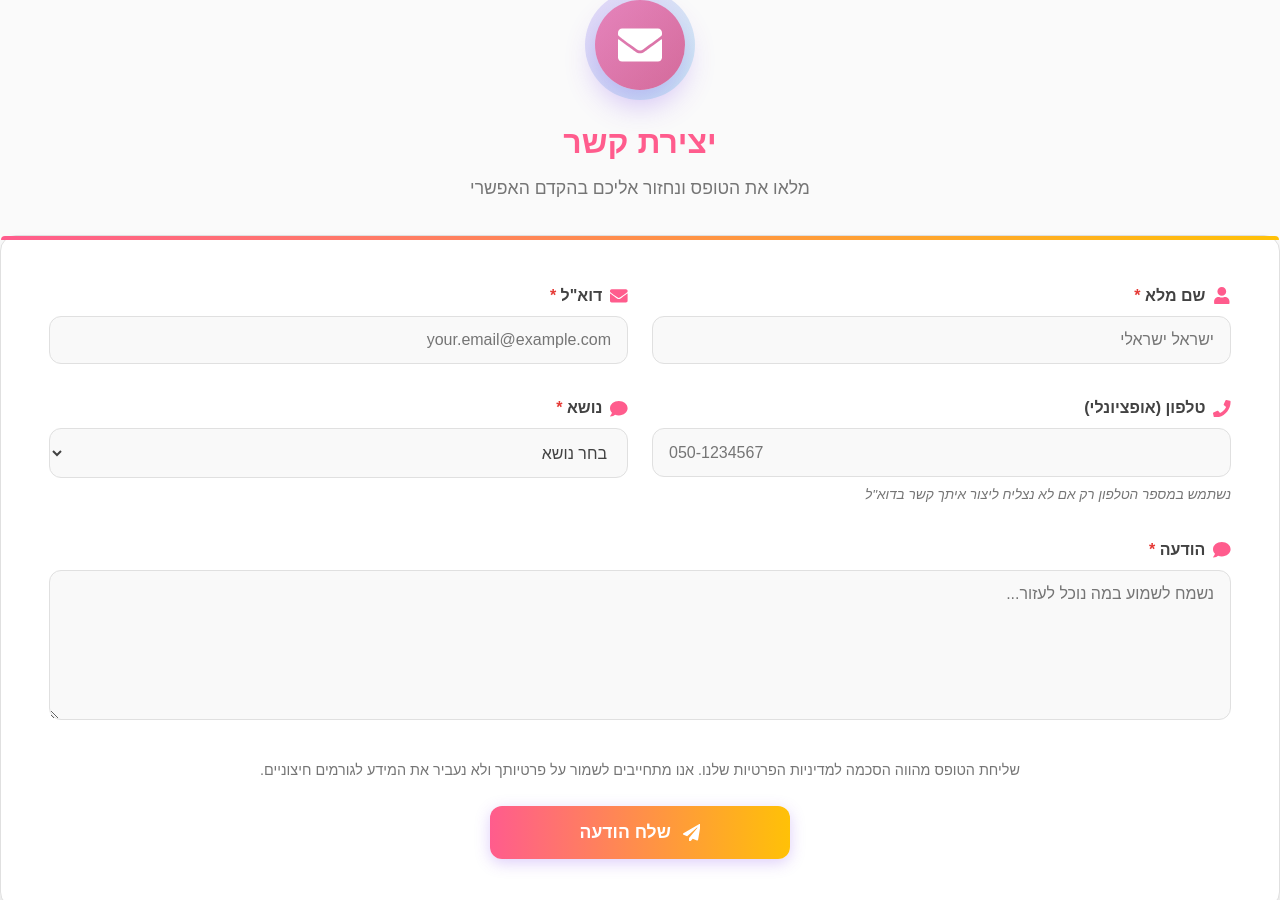
Test case: ContactForm Component › מציג שגיאה כאשר ההודעה קצרה מדי
The width and height of the screenshot is (1280, 900).
Type "דני ישראלי" into the field with placeholder "ישראל ישראלי" at point(942, 340), box [652, 316, 1231, 364]
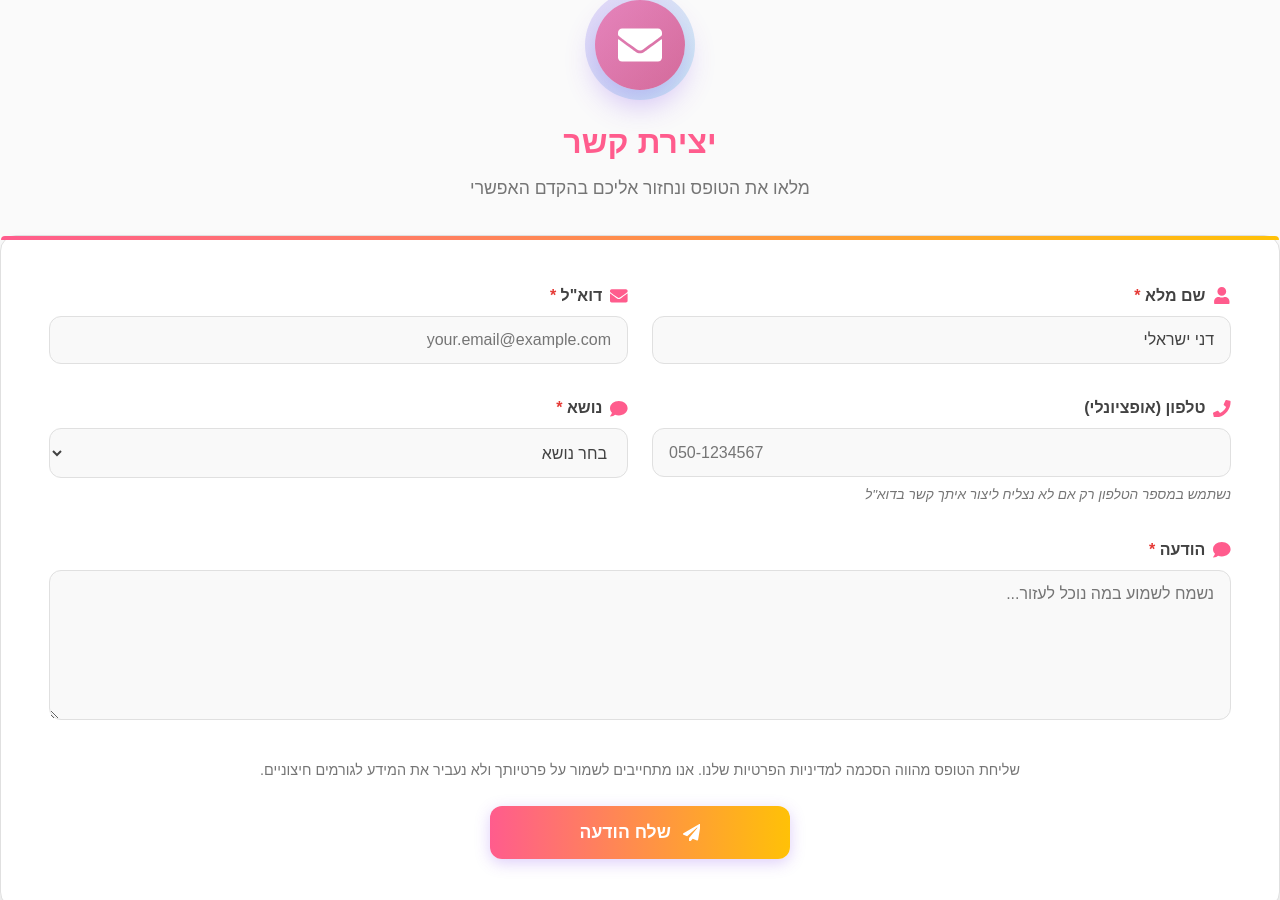
Type "danny@test.com" into the field with placeholder "your.email@example.com" at point(338, 340), box [49, 316, 628, 364]
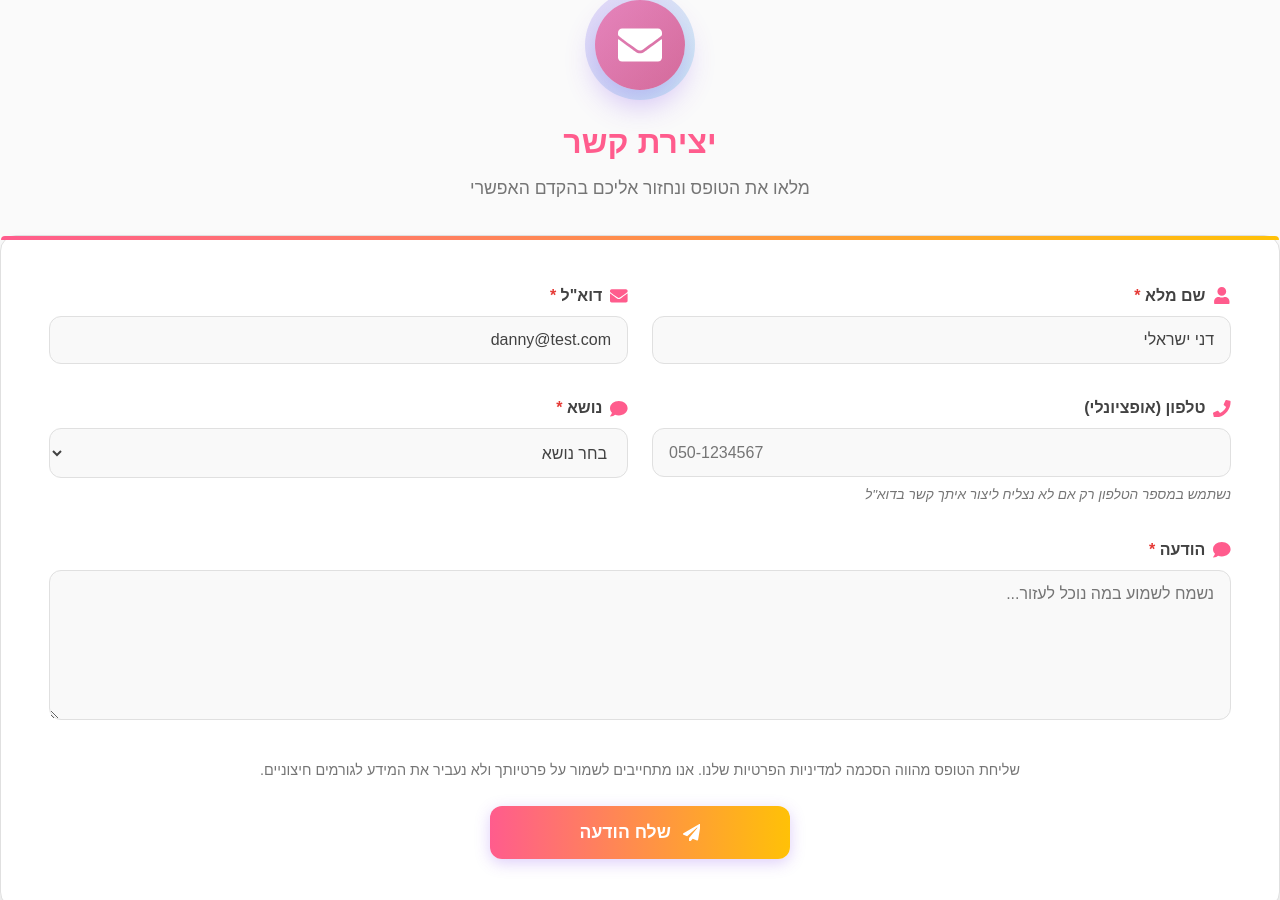
Type "שלום" into the text box with placeholder "נשמח לשמוע במה נוכל לעזור..." at point(640, 644), box [49, 570, 1231, 720]
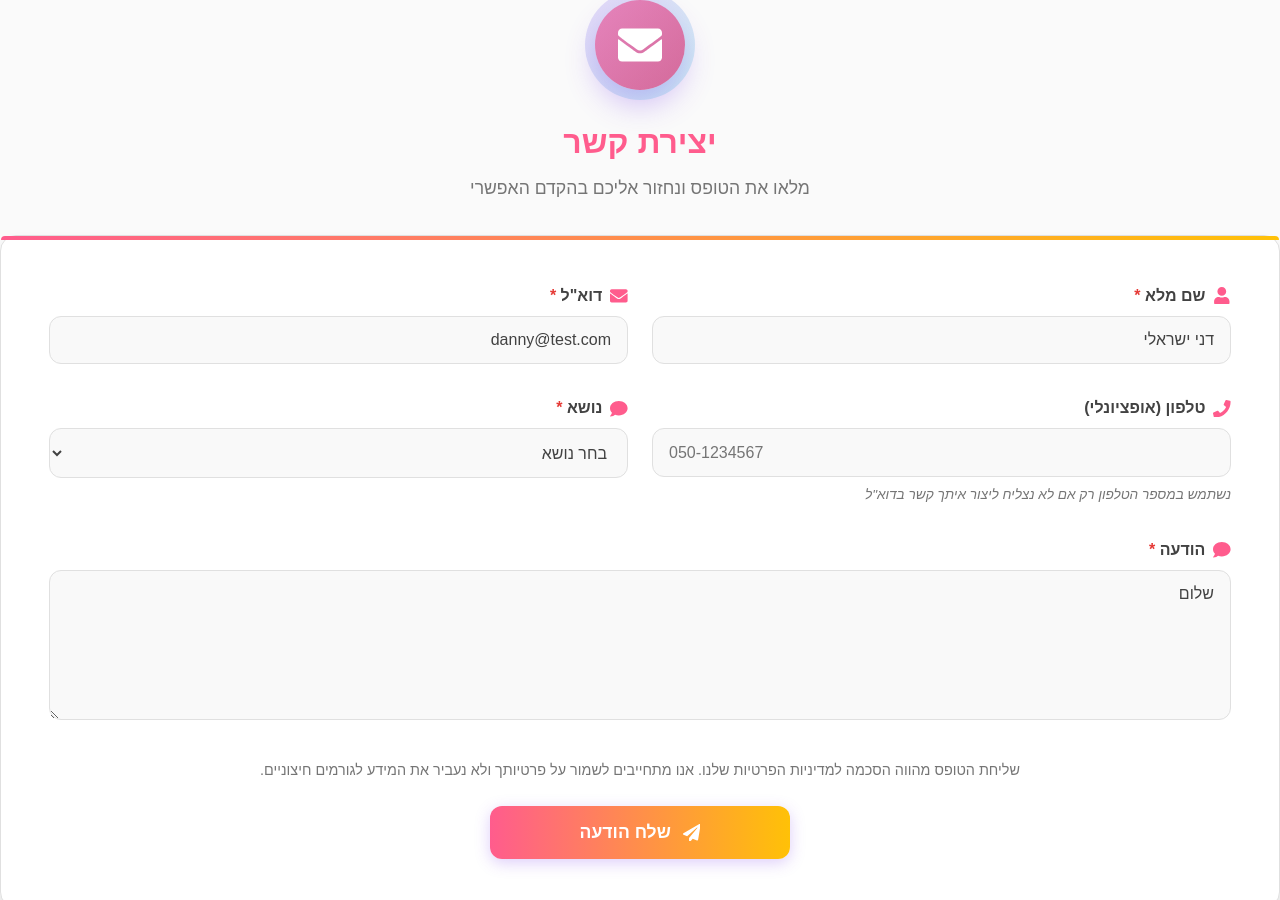
Select "אחר" in the dropdown labelled "נושא *" at point(338, 453), box [49, 428, 628, 478]
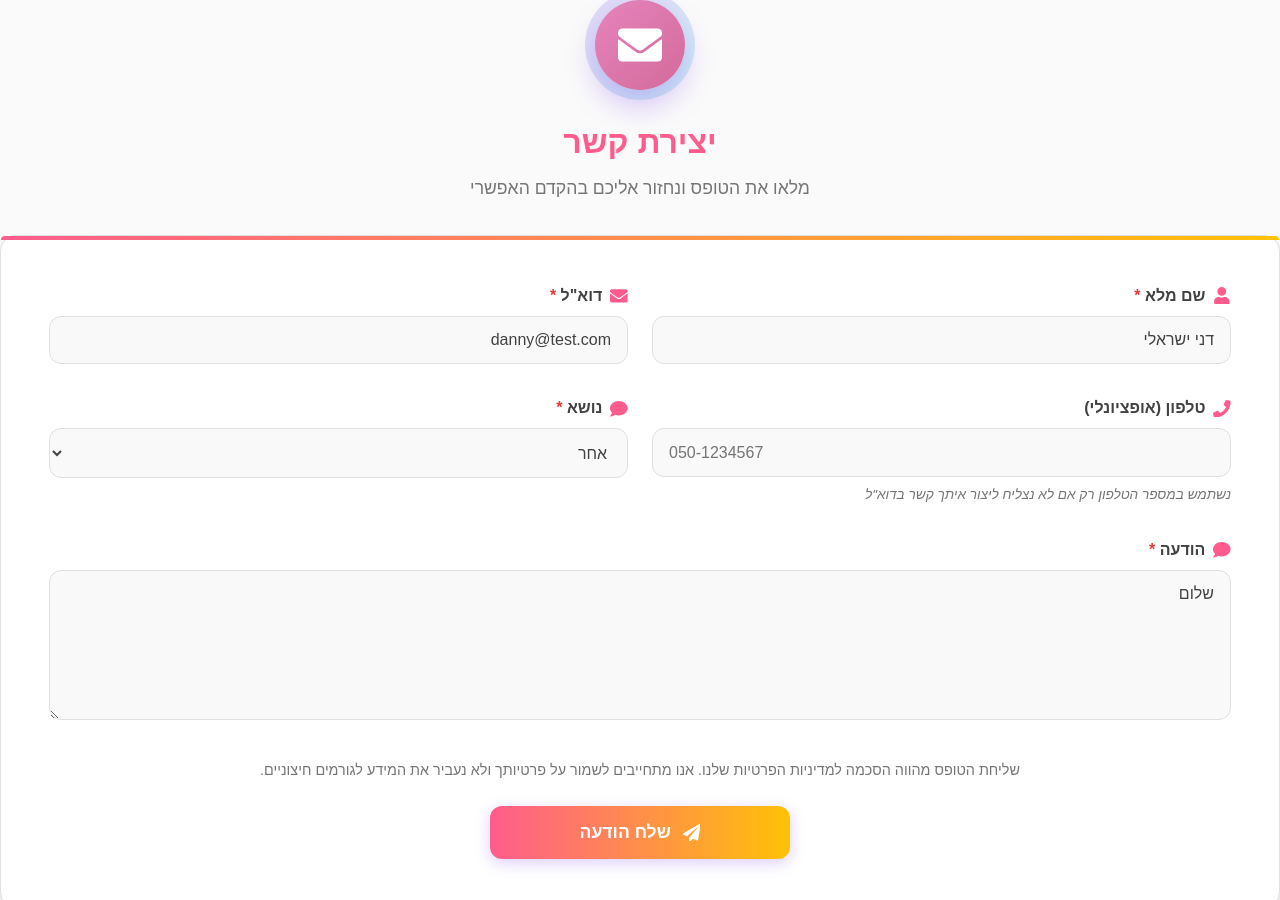
Click the button "שלח הודעה" at point(640, 832), box [490, 806, 790, 859]
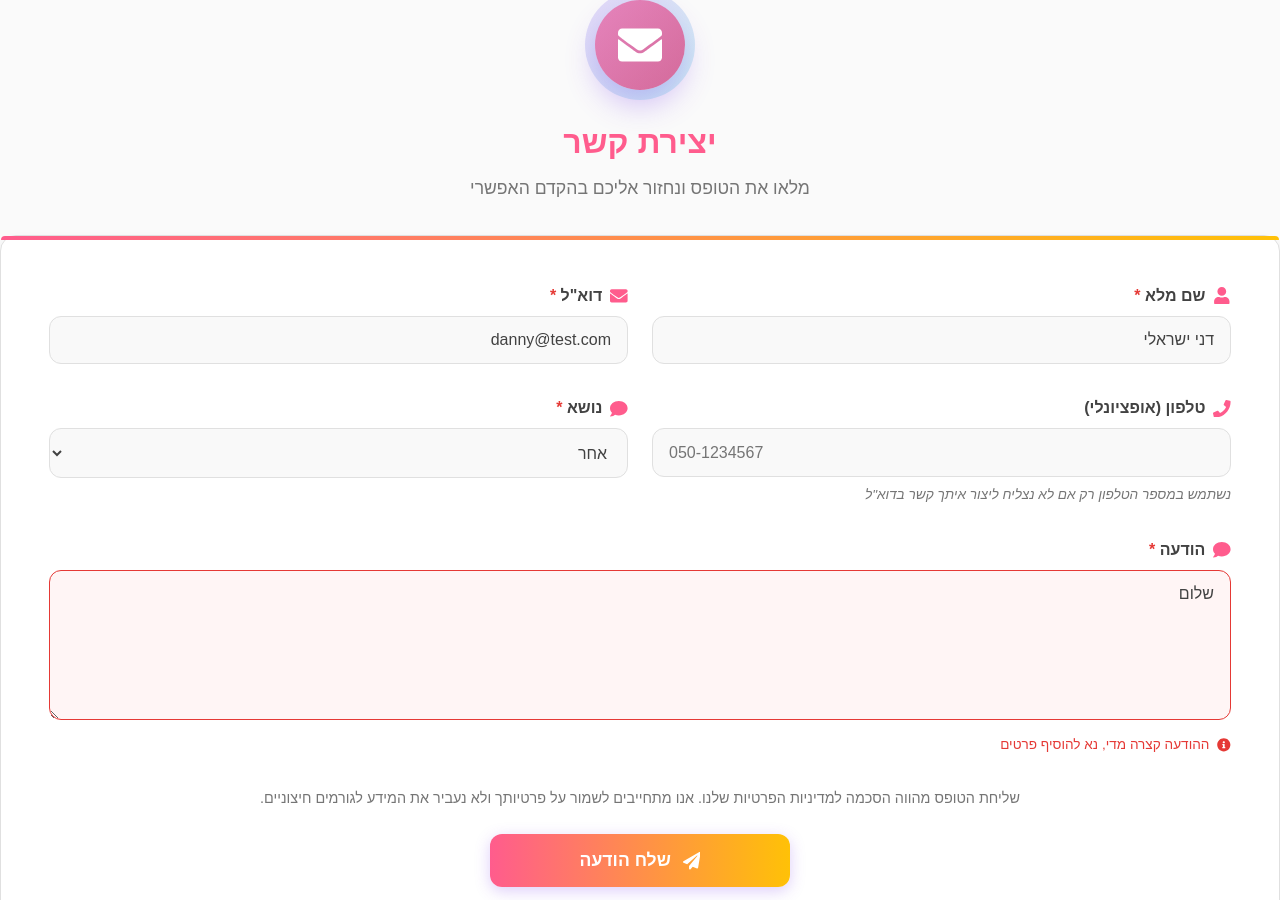
Expected: the text "ההודעה קצרה מדי, נא להוסיף פרטים" is shown, [1000, 736, 1231, 752]
